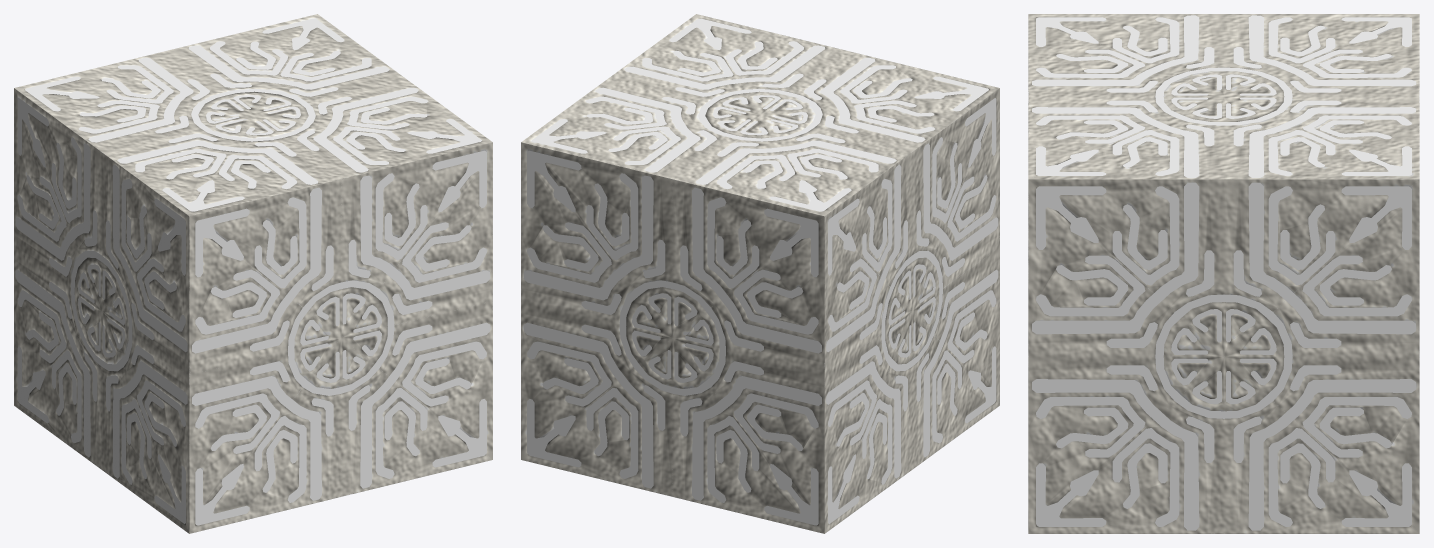
3 renders of one model, left to right at view 1: azimuth 30°, elevation 25°; view 2: azimuth 150°, elevation 25°; view 3: azimuth 270°, elevation 25°, orthographic. The views are drawn at different scales.
Visible parts, largest first — view 1: object1, object1aura; view 2: object1, object1aura; view 3: object1, object1aura.
Boxes of the visible parts, left/top/right/bottom form: object1: left=14, top=14, right=492, bottom=533; object1aura: left=15, top=18, right=492, bottom=525; object1: left=521, top=14, right=999, bottom=533; object1aura: left=521, top=18, right=998, bottom=525; object1: left=1028, top=14, right=1419, bottom=533; object1aura: left=1028, top=15, right=1419, bottom=530.
Bounding box in the file's own units: 13.8 × 13.8 × 13.8.
Materials: 2 (2 with a texture image).
